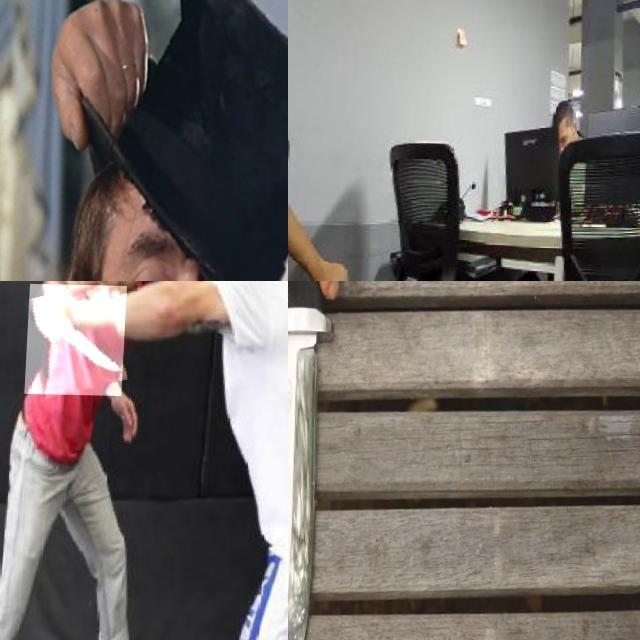-: (288, 281, 378, 640), (288, 311, 342, 611), (27, 283, 128, 395)
